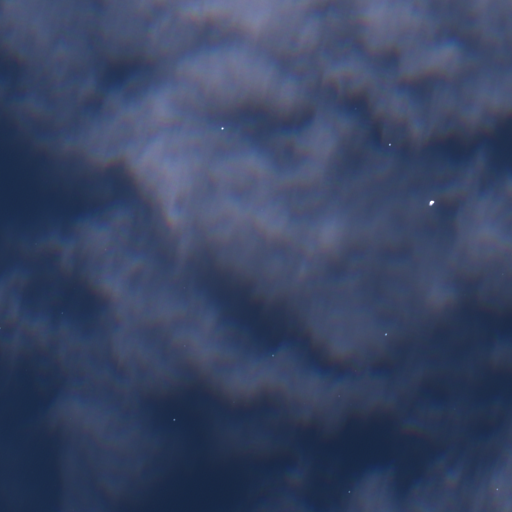Iceberg: (429, 200, 434, 205), (221, 127, 223, 129), (173, 418, 175, 420), (389, 143, 390, 145), (385, 333, 386, 335), (272, 354, 273, 356), (496, 488, 497, 490), (348, 491, 350, 492)
